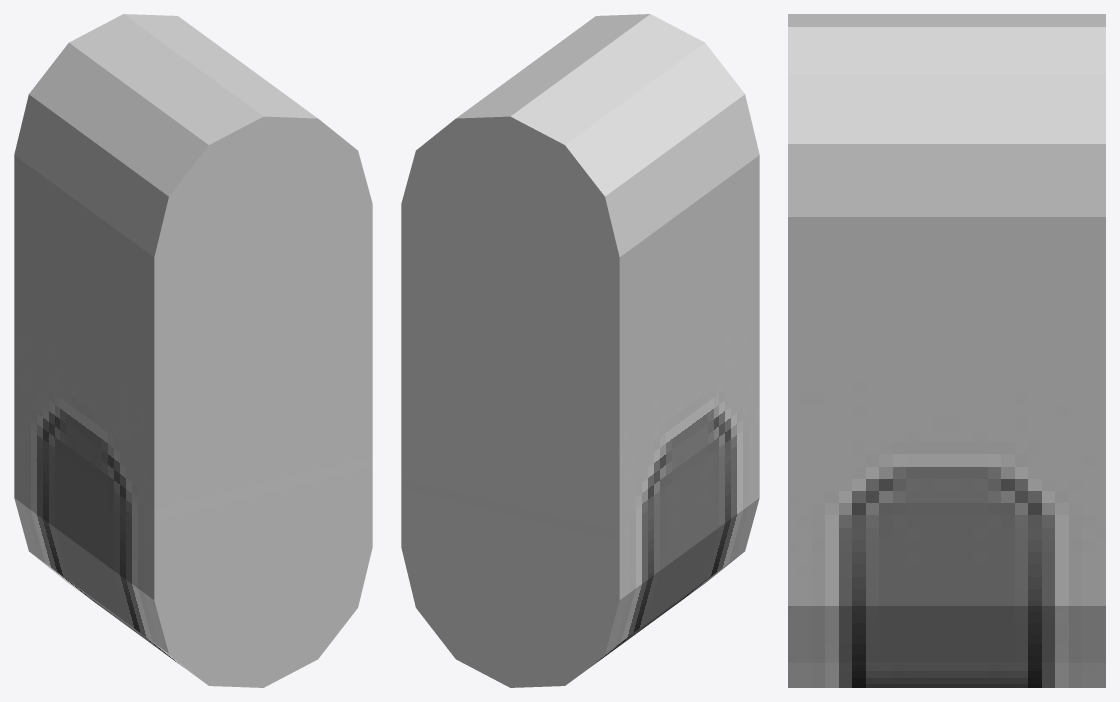
Rendered from L_LTHUMB_S.dae.
3 views of the same model, side by side, from view 1: azimuth 30°, elevation 25°; view 2: azimuth 150°, elevation 25°; view 3: azimuth 270°, elevation 25° (orthographic). The views are drawn at different scales.
Visible parts, largest first — view 1: root; view 2: root; view 3: root.
Boxes of the visible parts, bbox=[...] form: root: bbox=[14, 14, 372, 687]; root: bbox=[401, 14, 759, 687]; root: bbox=[788, 14, 1105, 687].
Size of the model in its own units: 0.018 by 0.02 by 0.045.
Materials: 1 (1 with a texture image).
